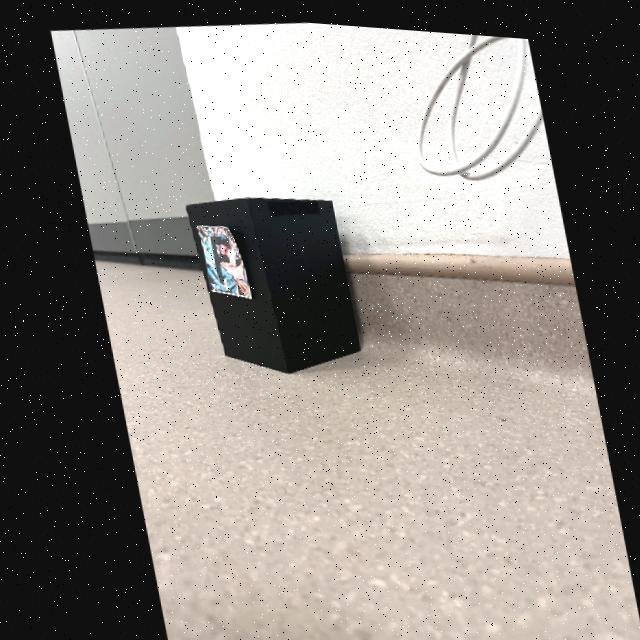F: (207, 234, 226, 280)
